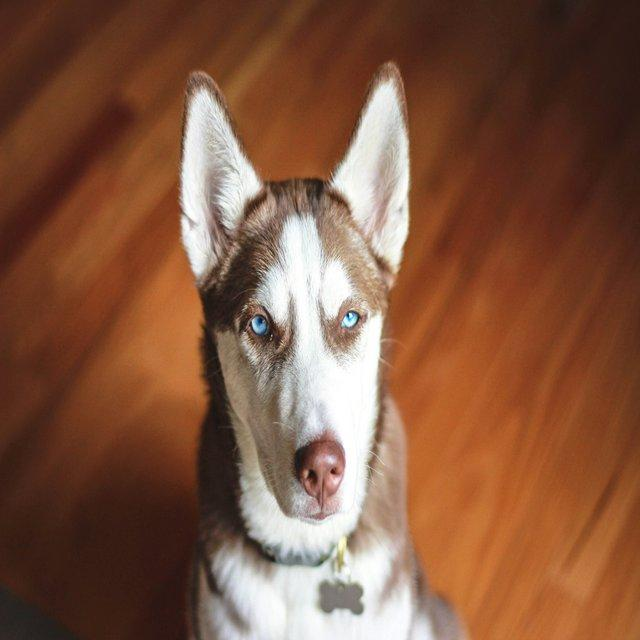husky: (176, 59, 470, 638)
